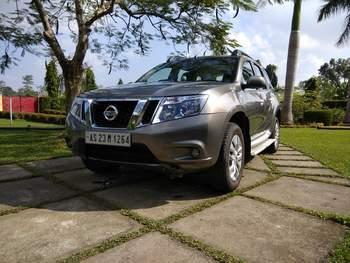License-Plate: (86, 132, 134, 149)
